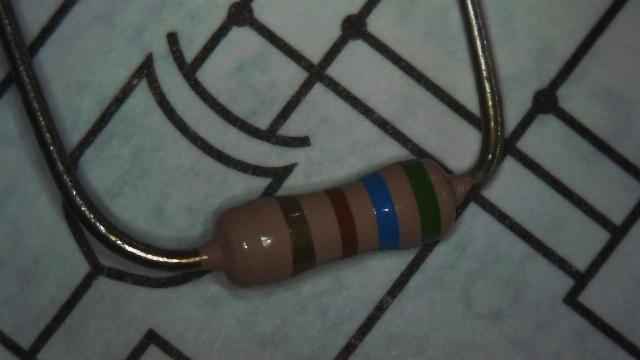blue: (362, 172, 401, 250)
brown: (324, 188, 358, 258)
gold: (276, 196, 316, 276)
green: (400, 159, 442, 244)
resistor: (179, 129, 498, 316)
